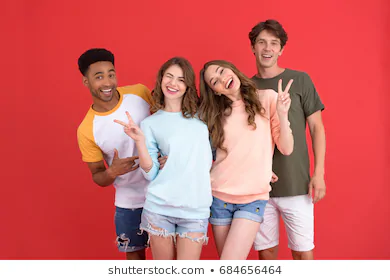person: (62, 50, 146, 136), (198, 46, 265, 153), (245, 18, 309, 96), (141, 53, 201, 136)
